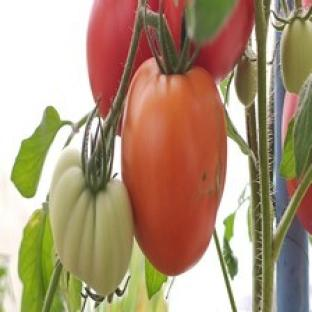Tomato: (122, 59, 227, 275), (49, 148, 133, 295), (280, 19, 311, 93), (234, 55, 257, 105), (282, 92, 298, 142)
